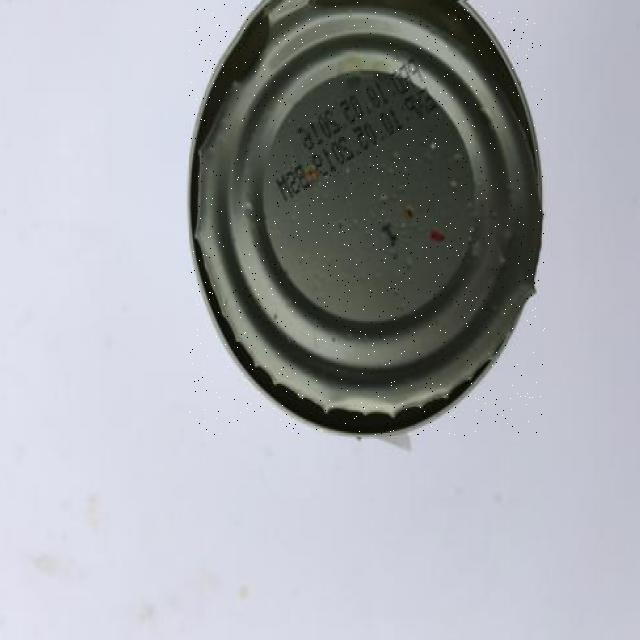metal: (190, 1, 545, 436)
